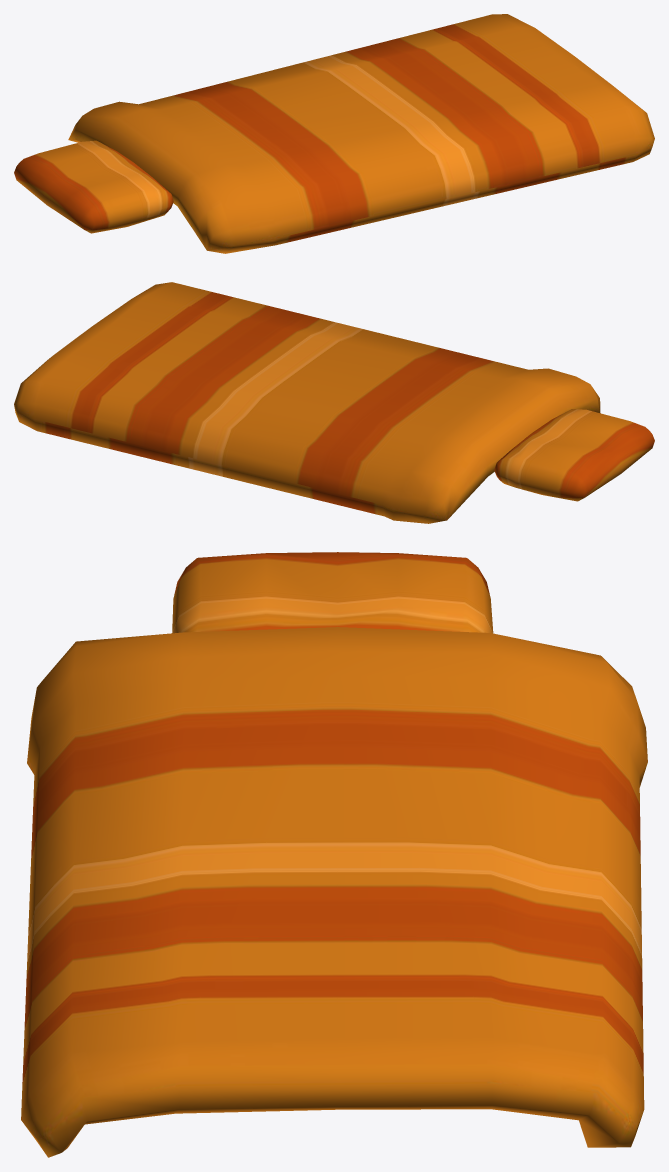
The model's file is PillowAndDuvet.fbx.
3 renders of one model, top to bottom at view 1: azimuth 30°, elevation 25°; view 2: azimuth 150°, elevation 25°; view 3: azimuth 270°, elevation 25°, orthographic. The views are drawn at different scales.
Parts seen in each view (by area): view 1: PillowAndDuvet; view 2: PillowAndDuvet; view 3: PillowAndDuvet.
Part boxes in pixels (x1,y1,x2,y2): PillowAndDuvet: [14, 14, 654, 253]; PillowAndDuvet: [14, 282, 654, 523]; PillowAndDuvet: [21, 552, 647, 1157].
Size of the model in its own units: 186 by 93.33 by 21.47.
